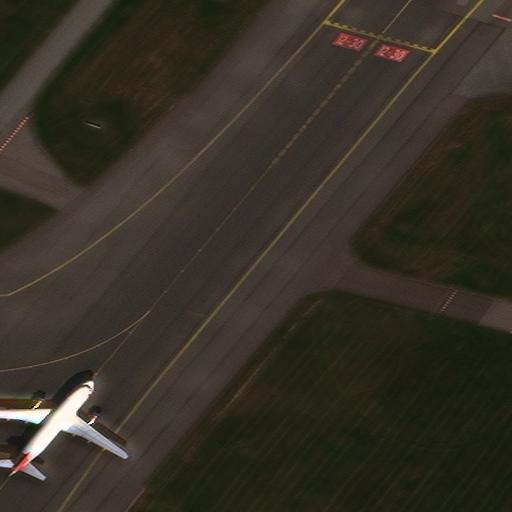Medium Civil Transport: (0, 376, 129, 478)
